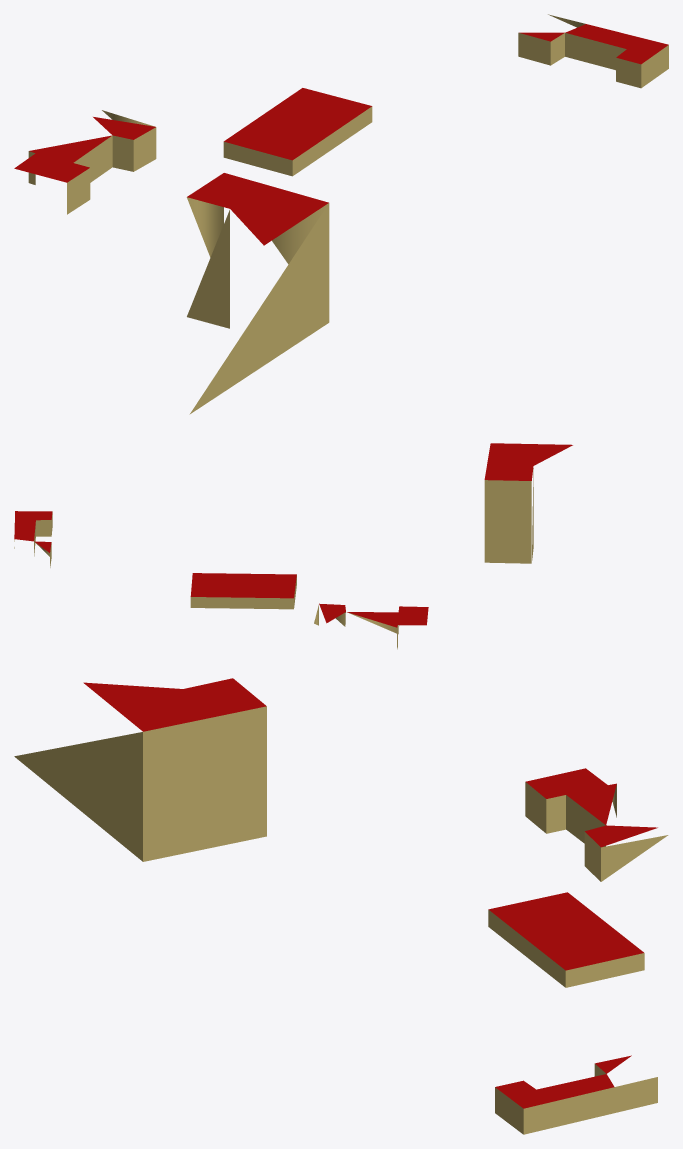
3 renders of one model, top to bottom at view 1: azimuth 30°, elevation 25°; view 2: azimuth 150°, elevation 25°; view 3: azimuth 270°, elevation 25°, orthographic. The views are drawn at different scales.
Size of the model in its own units: 234 by 37.5 by 171.
